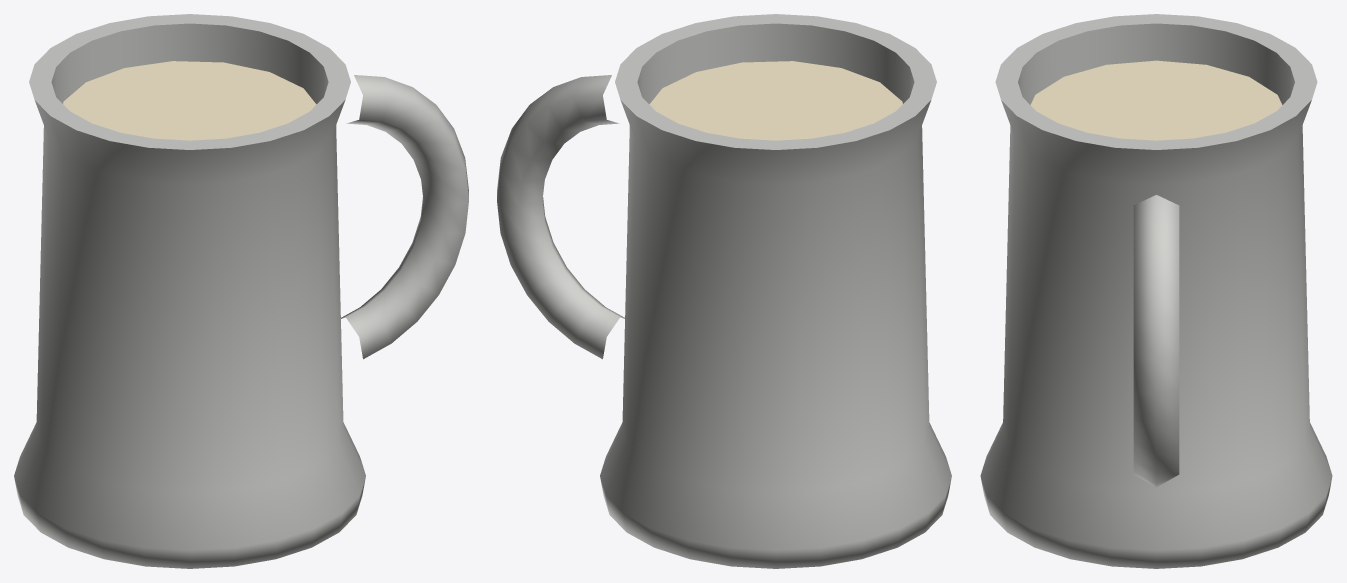
Rendered from tavern_tankard.glb.
3 views of the same model, side by side, from view 1: azimuth 30°, elevation 25°; view 2: azimuth 150°, elevation 25°; view 3: azimuth 270°, elevation 25° (orthographic).
Visible parts, largest first — view 1: tavern_tankard; view 2: tavern_tankard; view 3: tavern_tankard.
Part boxes in pixels (x1,y1,x2,y2): tavern_tankard: (14, 14, 468, 568); tavern_tankard: (497, 14, 951, 568); tavern_tankard: (980, 14, 1332, 568).
Size of the model in its own units: 0.133 by 0.122 by 0.094.
